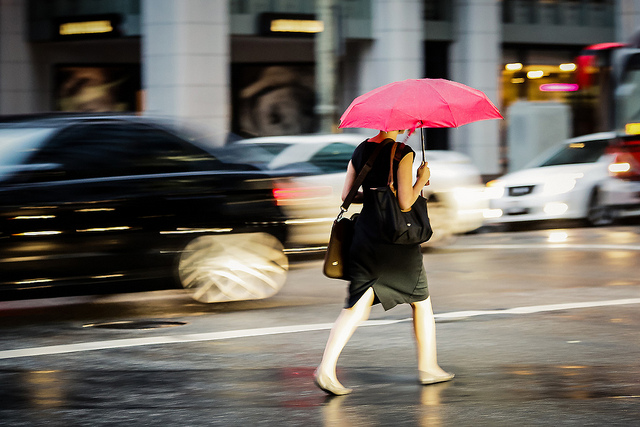Car: (11, 113, 302, 303), (500, 116, 622, 231)
Person: (333, 124, 454, 401)
